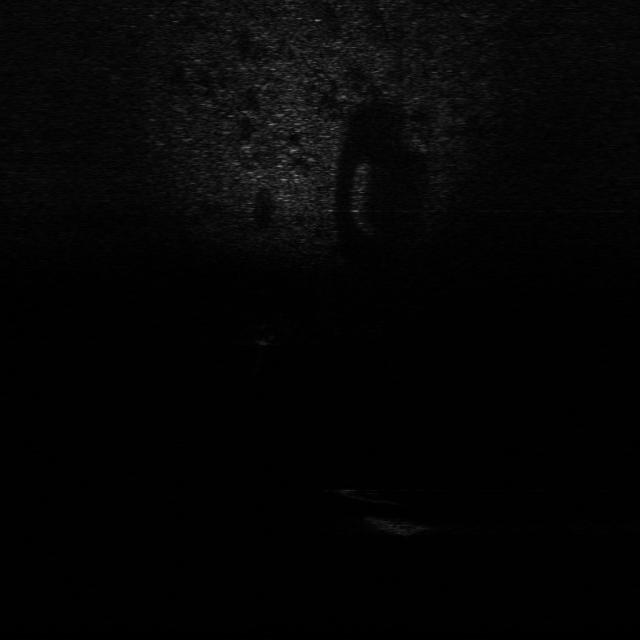ball: (252, 322, 283, 348)
metal bucket: (362, 511, 428, 538)
tyre: (336, 482, 406, 507)
